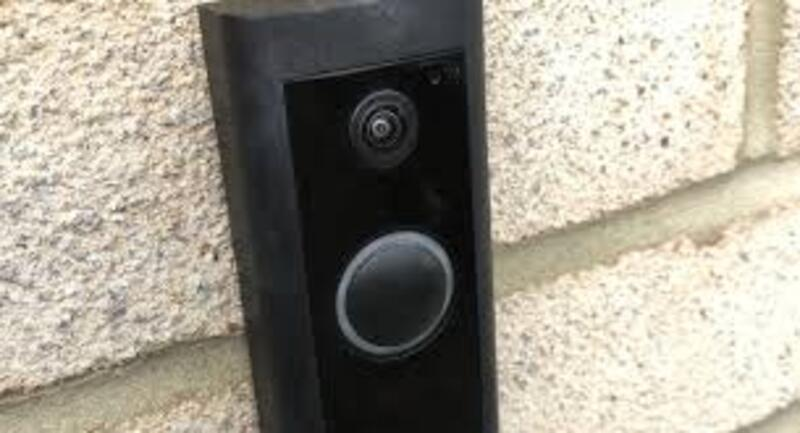doorbell: (195, 7, 507, 431)
